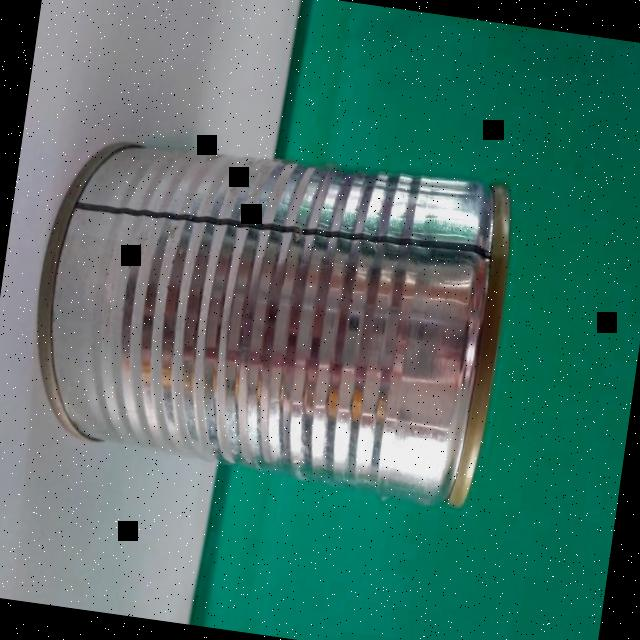can: (18, 119, 524, 514)
